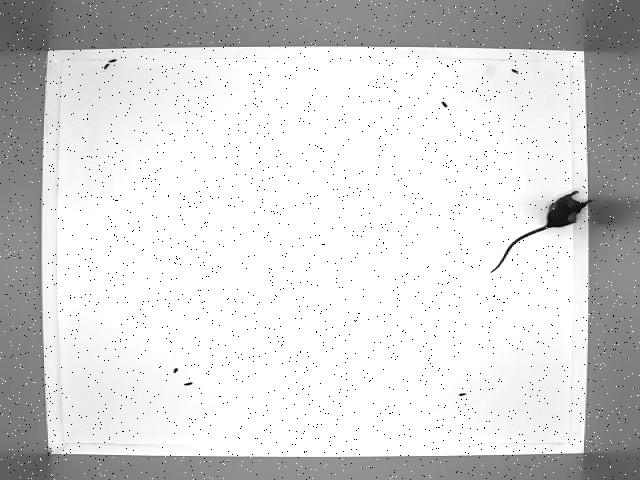Tikus: (488, 188, 592, 276)
